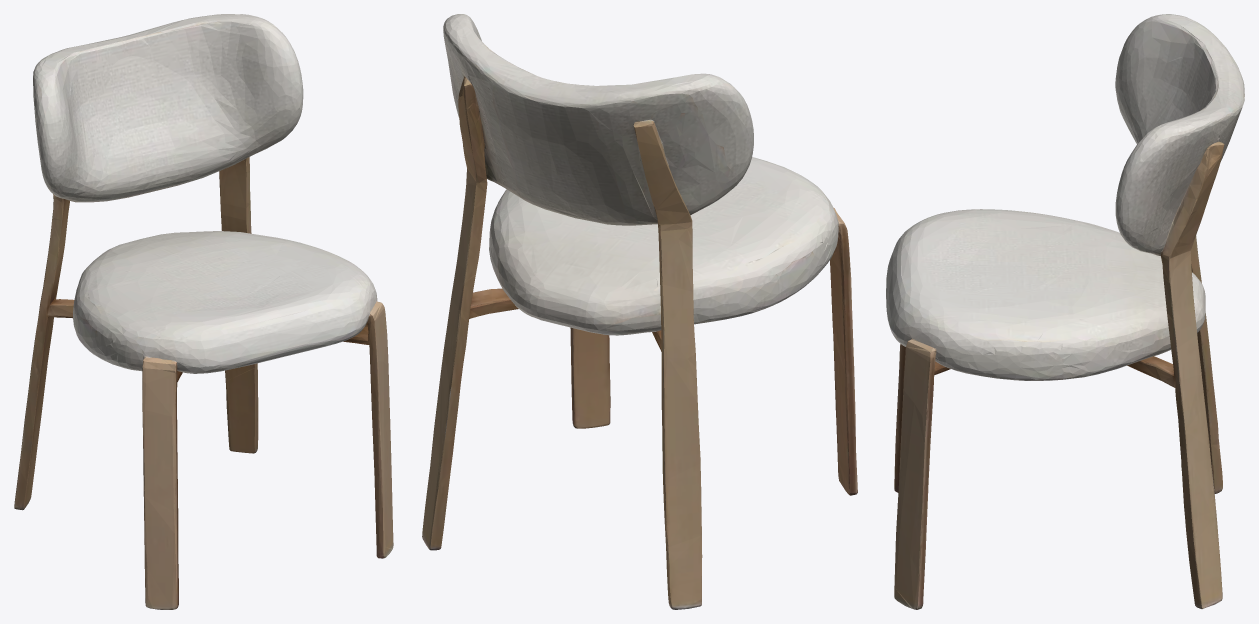
File: fm_dining_chair_oak.glb
3 renders of one model, left to right at view 1: azimuth 30°, elevation 25°; view 2: azimuth 150°, elevation 25°; view 3: azimuth 270°, elevation 25°, orthographic. The views are drawn at different scales.
Visible parts, largest first — view 1: geometry_0; view 2: geometry_0; view 3: geometry_0.
Part boxes in pixels (x1,y1,x2,y2): geometry_0: (14, 14, 393, 609); geometry_0: (422, 14, 857, 609); geometry_0: (886, 14, 1244, 609).
Bounding box in the file's own units: 0.6099 × 0.9992 × 0.6814.
Materials: 1 (1 with a texture image).
